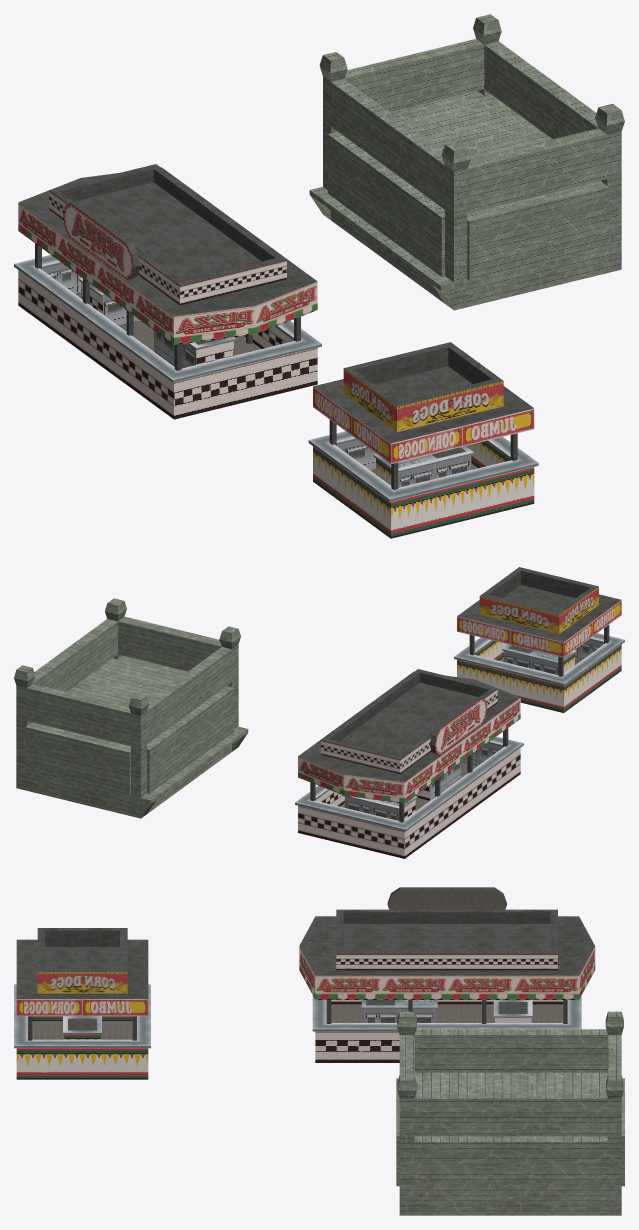
Rendered from pier03c_law2.obj.
3 renders of one model, top to bottom at view 1: azimuth 30°, elevation 25°; view 2: azimuth 150°, elevation 25°; view 3: azimuth 270°, elevation 25°, orthographic. The views are drawn at different scales.
Visible parts, largest first — view 1: pier03c_LAw2; view 2: pier03c_LAw2; view 3: pier03c_LAw2.
Part boxes in pixels (x1,y1,x2,y2): pier03c_LAw2: [14, 14, 624, 538]; pier03c_LAw2: [14, 567, 624, 858]; pier03c_LAw2: [14, 887, 624, 1215].
Size of the model in its own units: 14.98 by 4.54 by 18.64.
